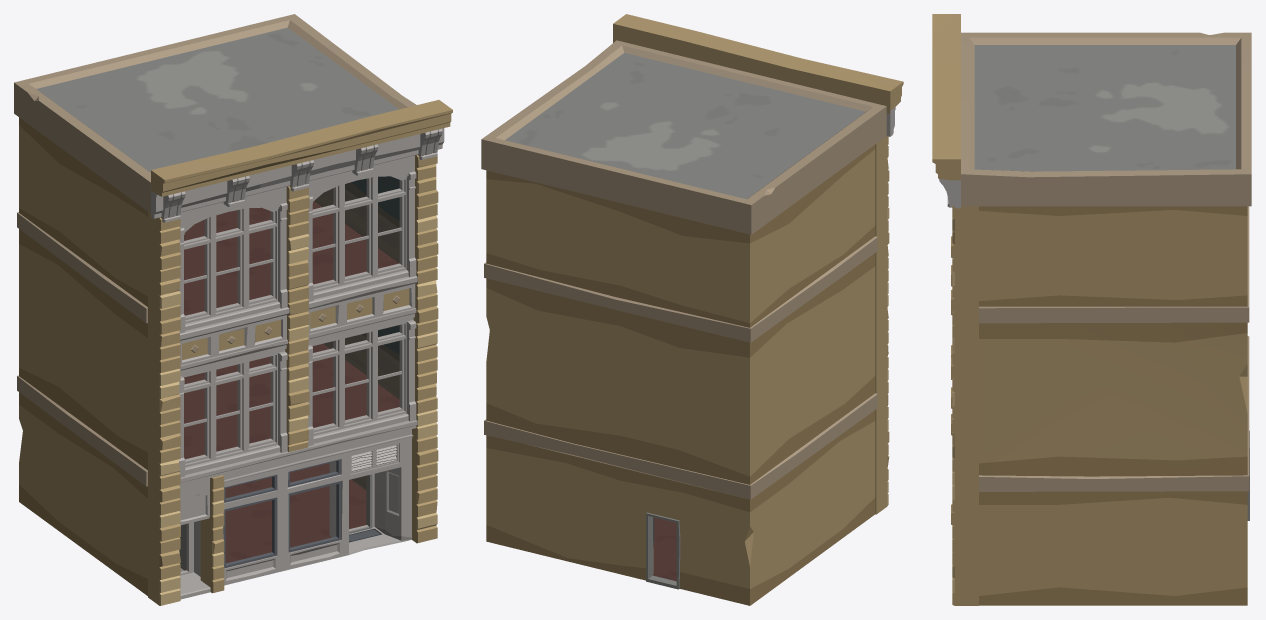
Rendered from SM_Bld_Apartment_01_603.obj.
3 renders of one model, left to right at view 1: azimuth 30°, elevation 25°; view 2: azimuth 150°, elevation 25°; view 3: azimuth 270°, elevation 25°, orthographic. The views are drawn at different scales.
Visible parts, largest first — view 1: SM_Bld_Apartment_01_0; view 2: SM_Bld_Apartment_01_0; view 3: SM_Bld_Apartment_01_0.
Part boxes in pixels (<box>): SM_Bld_Apartment_01_0: <box>14,14,452,605</box>; SM_Bld_Apartment_01_0: <box>481,14,903,605</box>; SM_Bld_Apartment_01_0: <box>932,14,1251,605</box>.
Size of the model in its own units: 10.31 by 14.88 by 9.57.
1 material, 1 textured.
